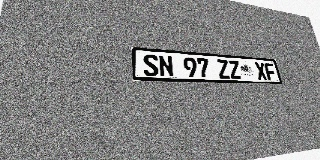plate: (131, 47, 282, 84)
